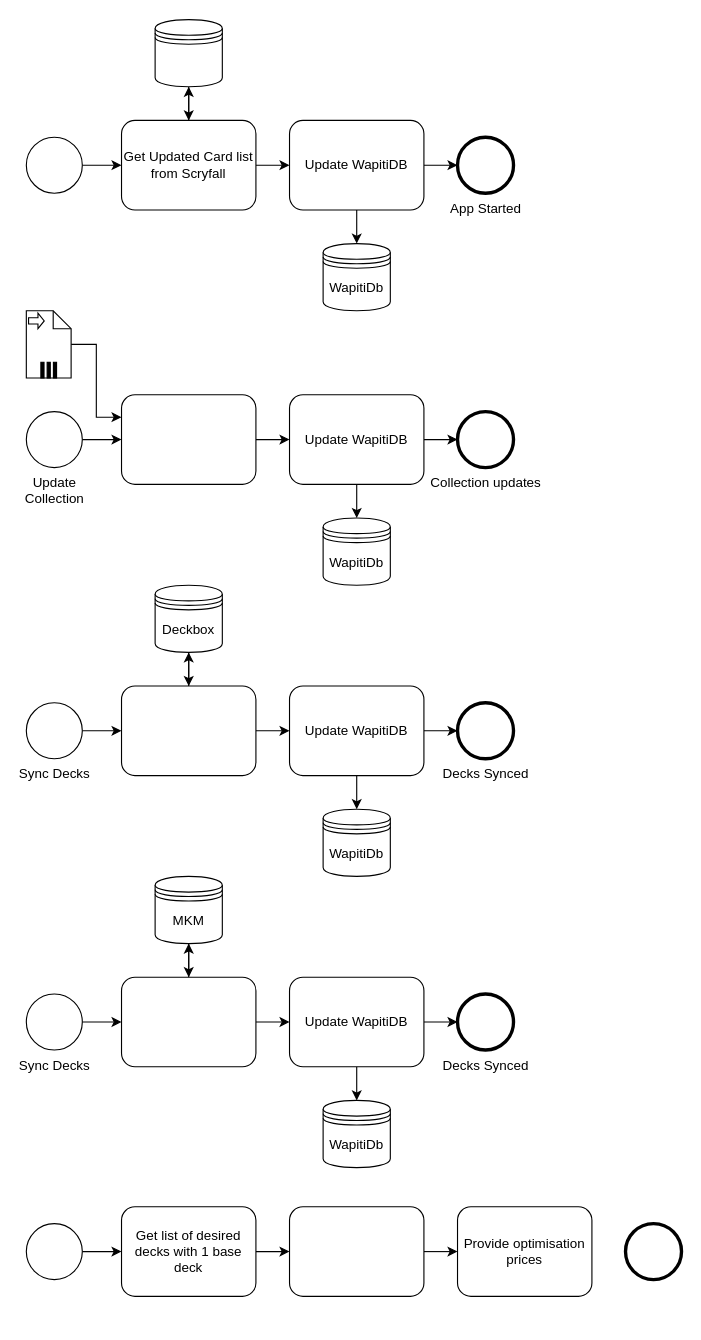
The diagram is 701 pixels wide and 1340 high, and some of its shapes have lost their labels. Here are the shapes that lost their labels. From the top down, the box of each, then its label:
(154, 18, 222, 87): Skryfall
(25, 136, 82, 193): Start App
(120, 394, 256, 484): Parse Input CSV
(120, 685, 256, 776): Get decks from Deckbox.org
(120, 976, 256, 1067): Retrieve Collection pricing information
(25, 1222, 82, 1280): Optimize Collection
(288, 1206, 424, 1296): For each deck next to the base deck calculate the cost to complete it
